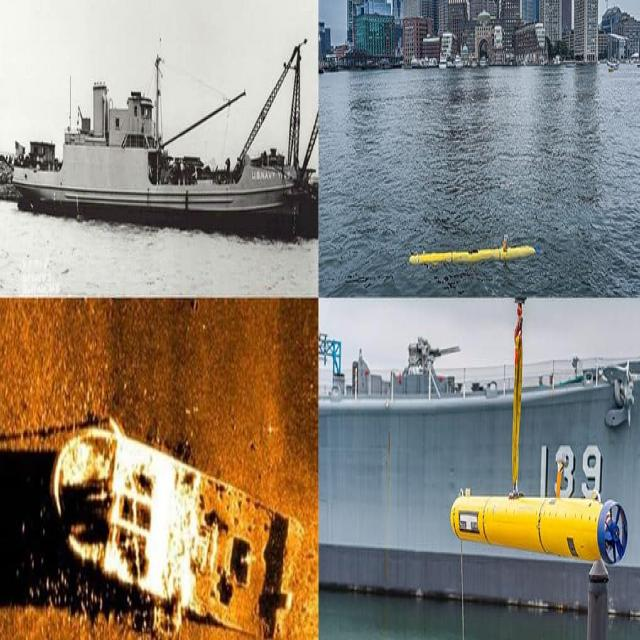ship: (11, 45, 319, 236), (52, 416, 297, 634), (449, 462, 629, 568), (406, 232, 537, 278)
